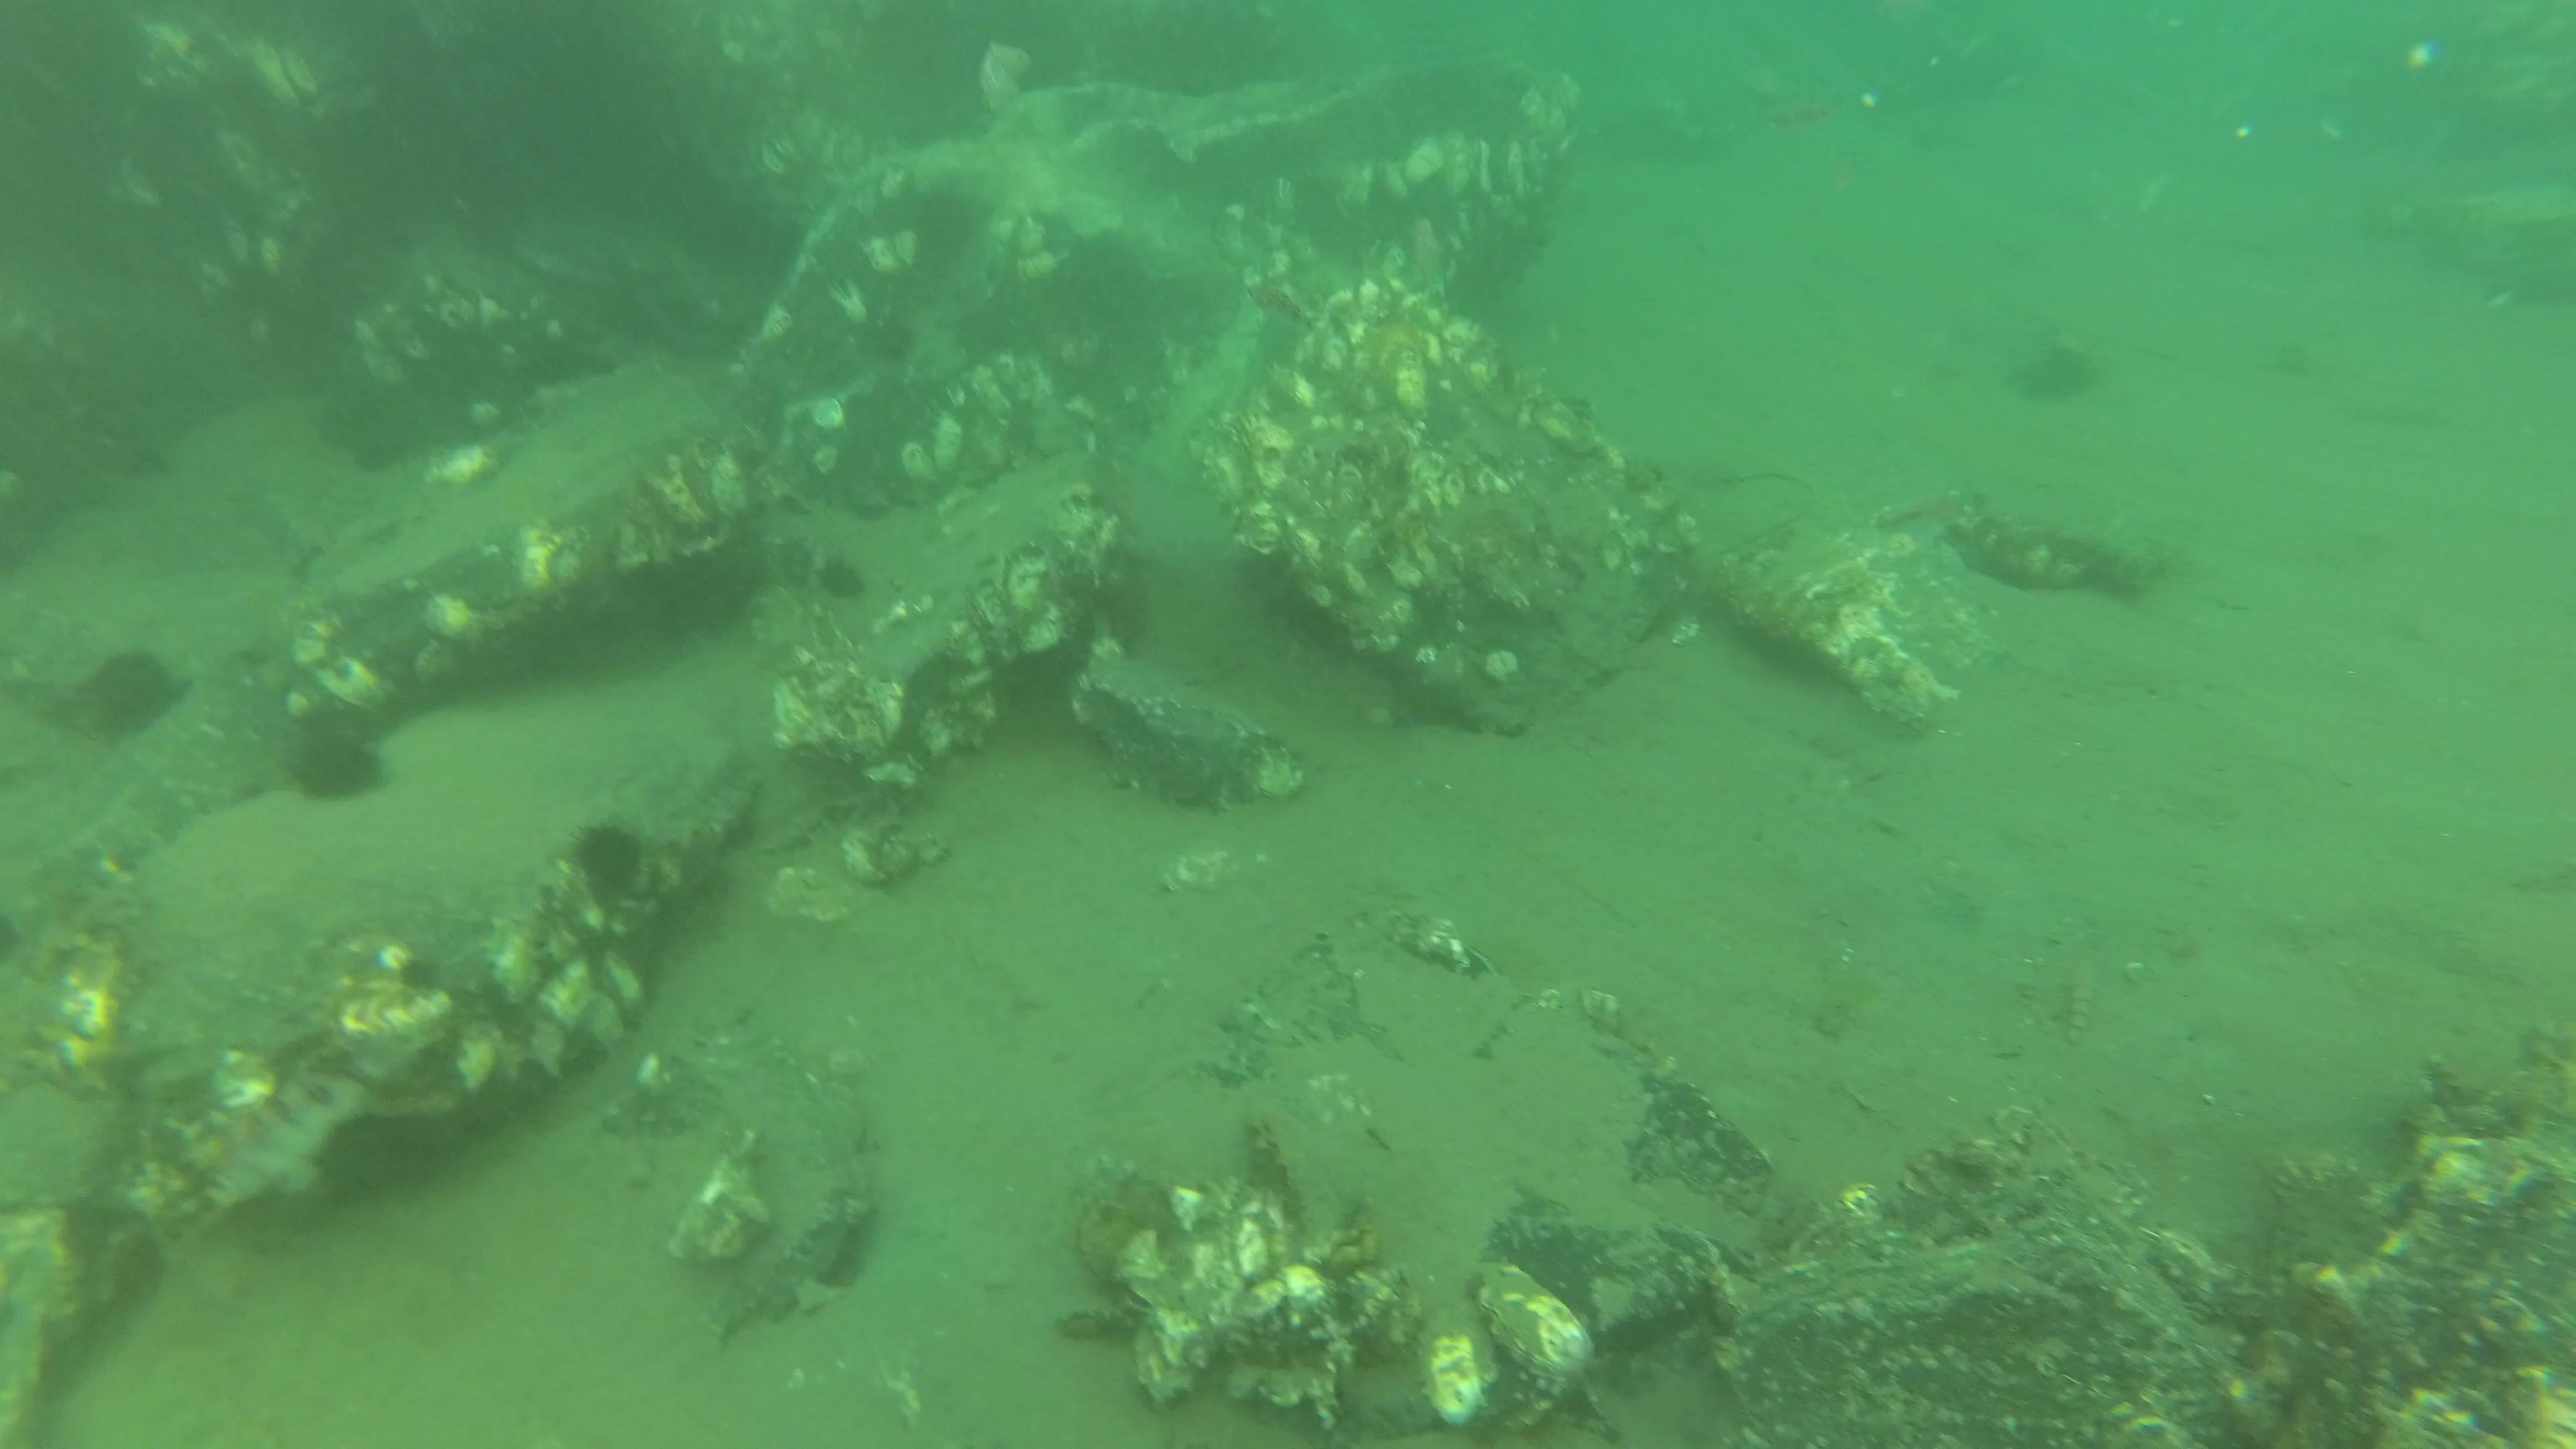echinus: (92, 655, 172, 738), (290, 741, 387, 796), (571, 826, 649, 893), (345, 400, 416, 471)
